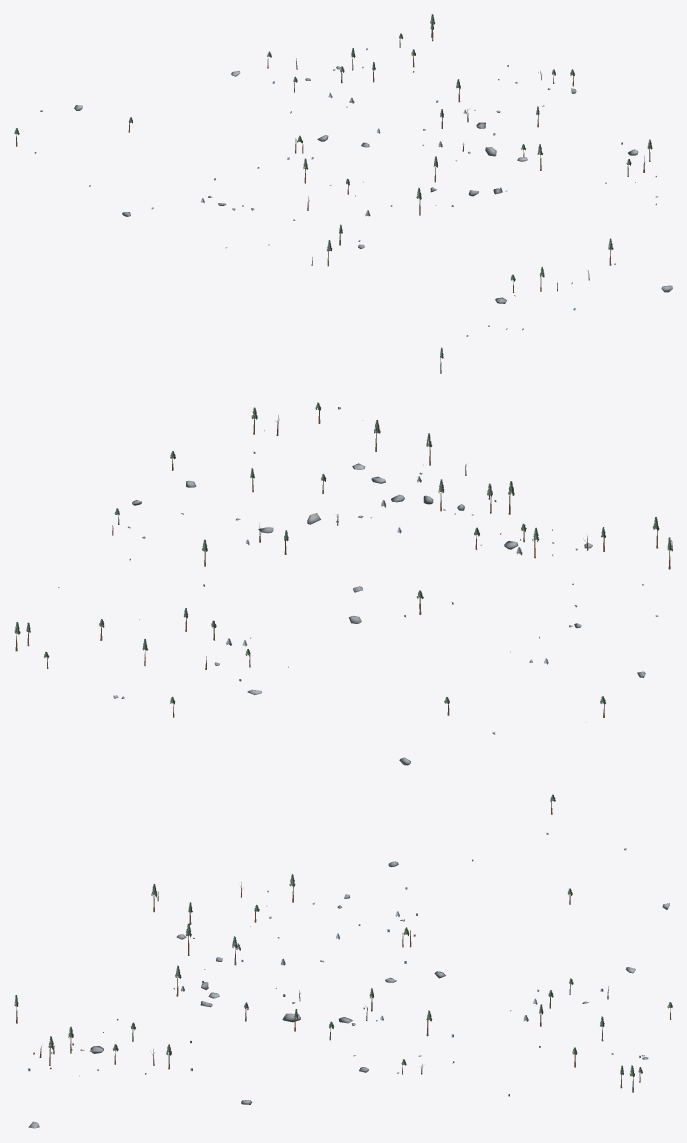
Rendered from frost_land_scatter_c16_11_lod1.glb.
3 views of the same model, one above another, from view 1: azimuth 30°, elevation 25°; view 2: azimuth 150°, elevation 25°; view 3: azimuth 270°, elevation 25° (orthographic). The views are drawn at different scales.
Visible parts, largest first — view 1: frost_land_scatter_c16_11_lod1; view 2: frost_land_scatter_c16_11_lod1; view 3: frost_land_scatter_c16_11_lod1.
Part boxes in pixels (box(x1,y1,x2,y2)): frost_land_scatter_c16_11_lod1: box(14, 14, 672, 373); frost_land_scatter_c16_11_lod1: box(14, 402, 672, 765); frost_land_scatter_c16_11_lod1: box(14, 794, 672, 1128).
Bounding box in the file's own units: 244 × 64.72 × 256.
